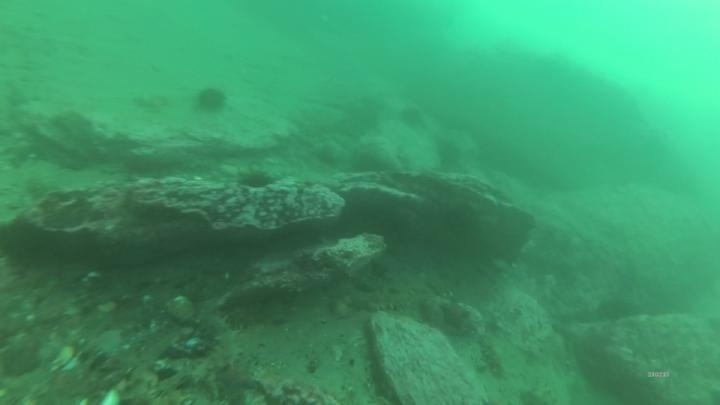echinus: (193, 84, 230, 117), (433, 137, 466, 173), (236, 166, 276, 192), (397, 104, 426, 131)
holothurian: (332, 280, 424, 319), (195, 308, 244, 377), (217, 298, 291, 333), (471, 326, 508, 382)
starfish: (212, 359, 260, 401), (436, 297, 477, 338)
